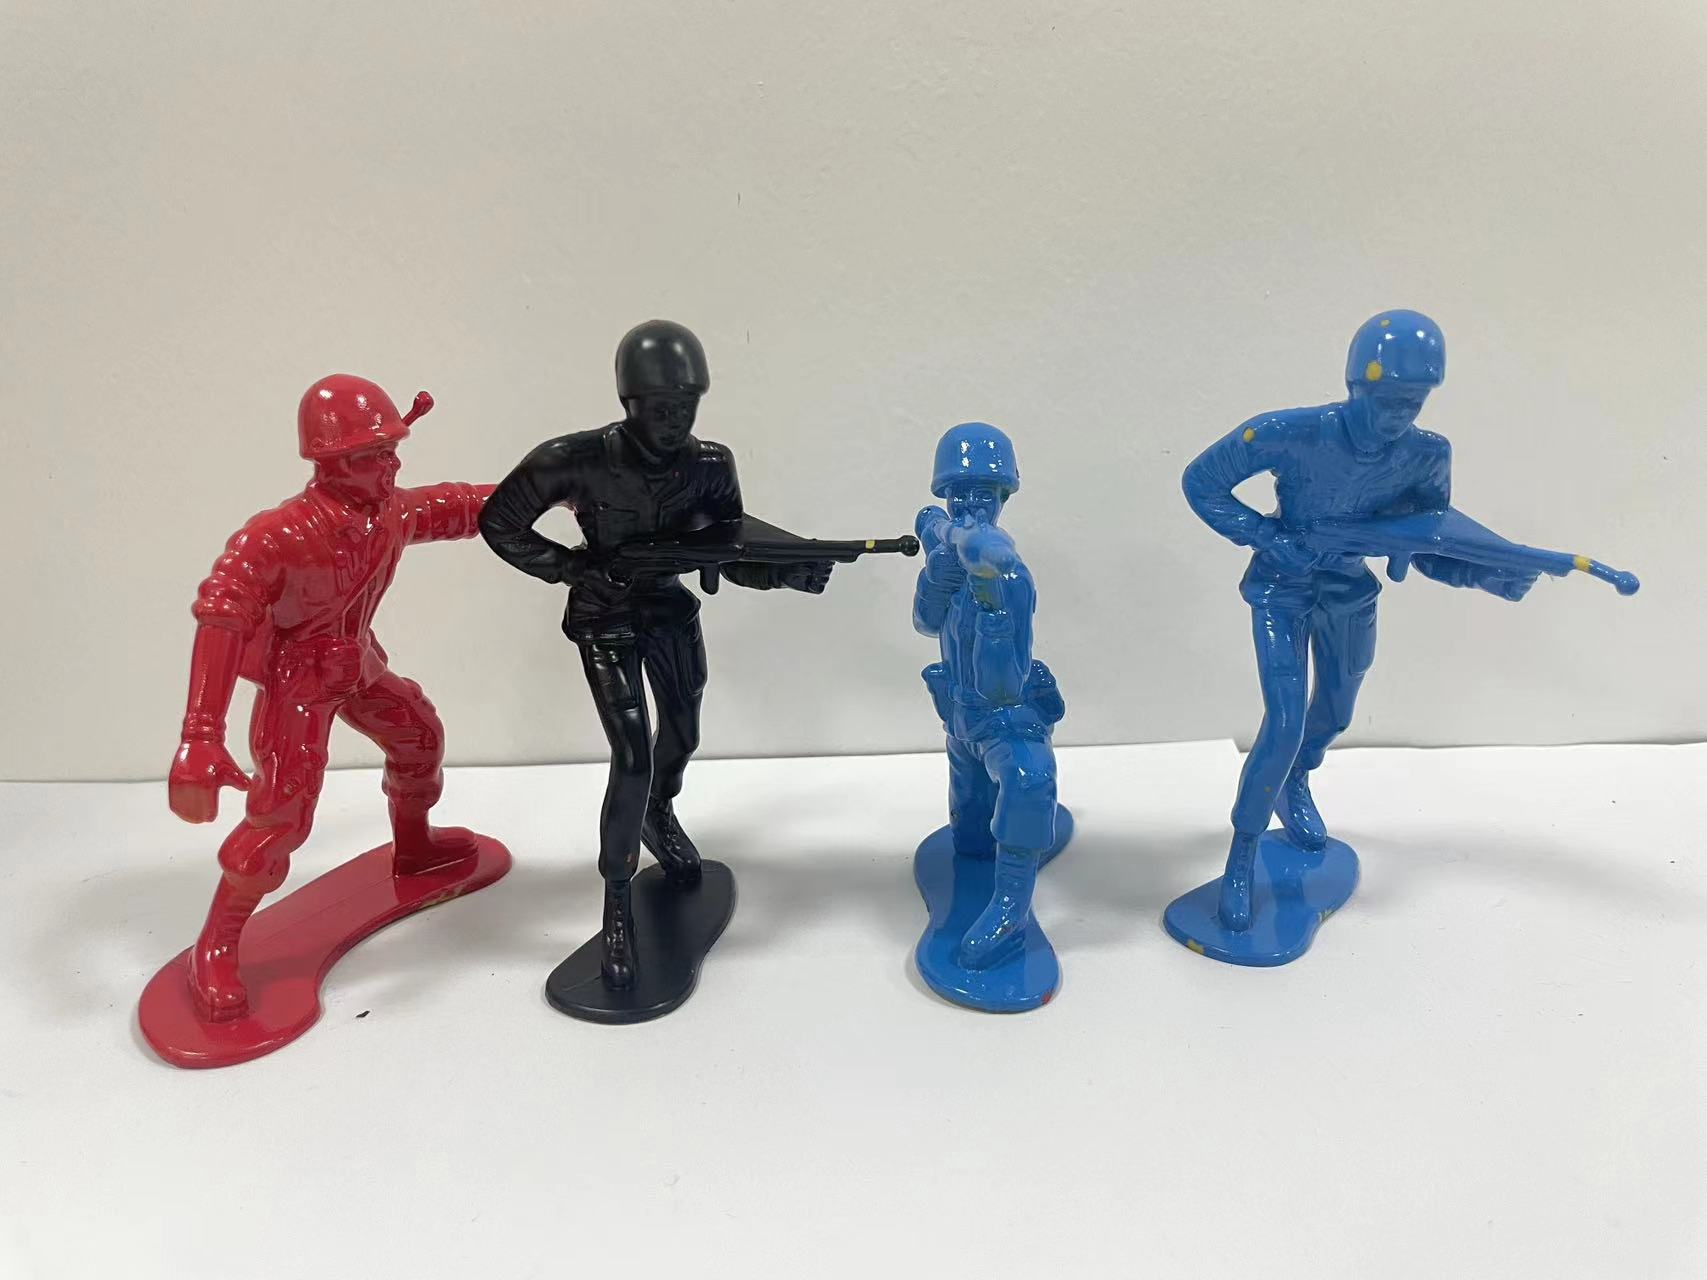black: (478, 286, 866, 1089)
blue: (1149, 262, 1663, 1014), (844, 389, 1134, 1029)
red: (112, 333, 520, 1131)
